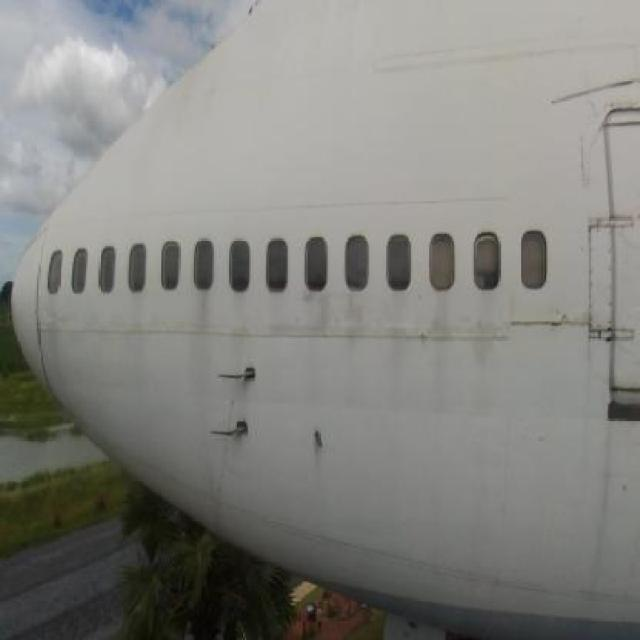Missing-Rivet: (581, 213, 621, 350)
Scartch: (531, 46, 640, 109), (498, 307, 580, 345), (572, 131, 598, 204)
